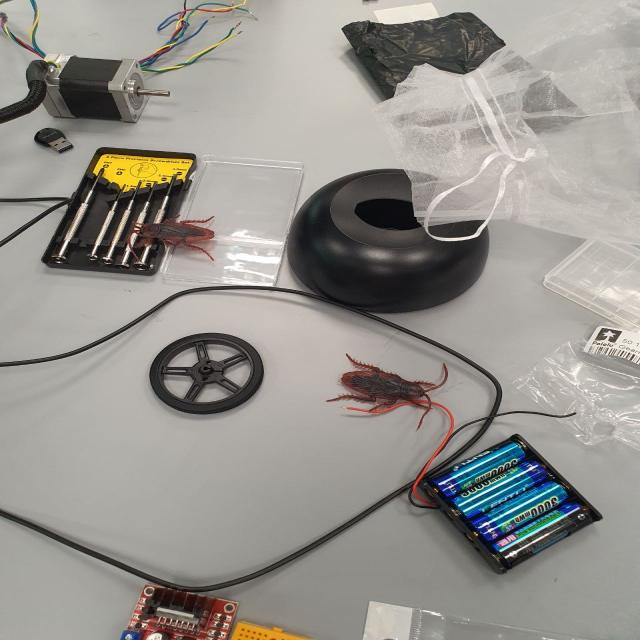Cockroach: (337, 357, 453, 419), (131, 212, 222, 258)
